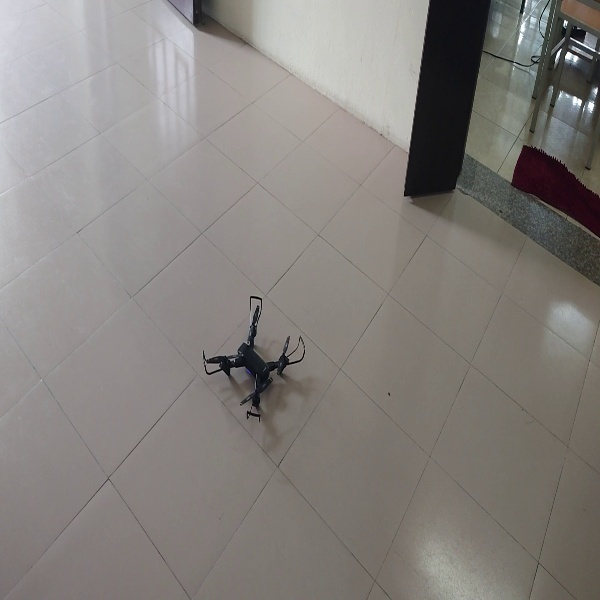drone: (203, 292, 309, 425)
